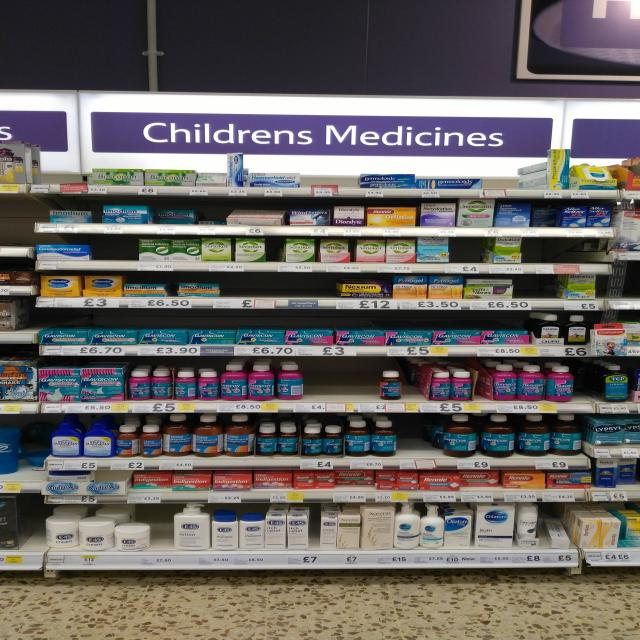void: (38, 139, 85, 195), (308, 359, 344, 413), (403, 414, 438, 469), (1, 201, 33, 257), (303, 143, 334, 198), (488, 149, 520, 198), (348, 358, 377, 412), (93, 238, 136, 272), (516, 276, 559, 309), (330, 150, 359, 197), (279, 272, 308, 311), (453, 238, 485, 273), (308, 273, 337, 310), (576, 238, 606, 273), (252, 273, 280, 310), (550, 238, 577, 274), (226, 272, 251, 310), (525, 238, 549, 276)
